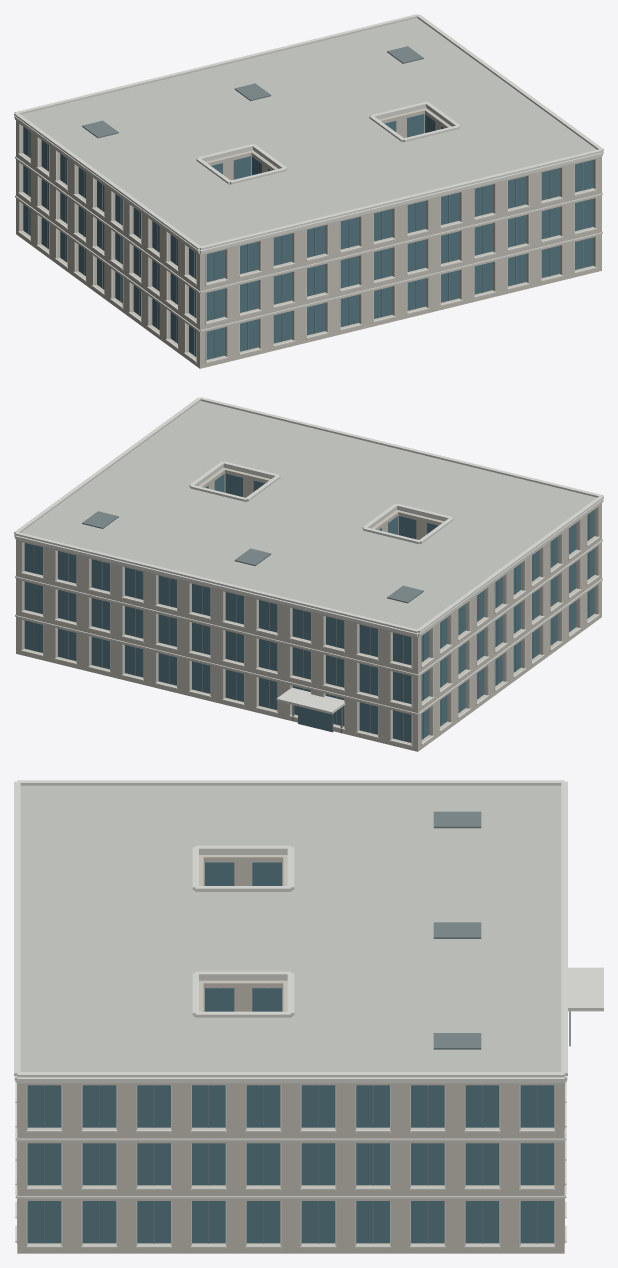
The model's file is he_canteen.glb.
3 renders of one model, top to bottom at view 1: azimuth 30°, elevation 25°; view 2: azimuth 150°, elevation 25°; view 3: azimuth 270°, elevation 25°, orthographic. The views are drawn at different scales.
Visible parts, largest first — view 1: roof, living_wall, glass, white_frame, metal; view 2: roof, living_wall, glass, white_frame, metal; view 3: roof, living_wall, glass, white_frame, metal.
Part boxes in pixels (bbox=[...]): roof: bbox=[21, 18, 596, 250]; living_wall: bbox=[16, 108, 601, 368]; glass: bbox=[23, 114, 593, 359]; white_frame: bbox=[14, 14, 603, 363]; metal: bbox=[28, 46, 583, 358]; roof: bbox=[21, 401, 596, 633]; living_wall: bbox=[16, 467, 601, 751]; glass: bbox=[24, 473, 594, 742]; white_frame: bbox=[14, 397, 603, 746]; metal: bbox=[34, 511, 589, 741]; roof: bbox=[20, 785, 561, 1071]; living_wall: bbox=[17, 855, 564, 1253]; glass: bbox=[27, 862, 570, 1243]; white_frame: bbox=[14, 780, 603, 1248]; metal: bbox=[44, 811, 537, 1243].
Bounding box in the file's own units: 58.55 × 16.7 × 49.57.
